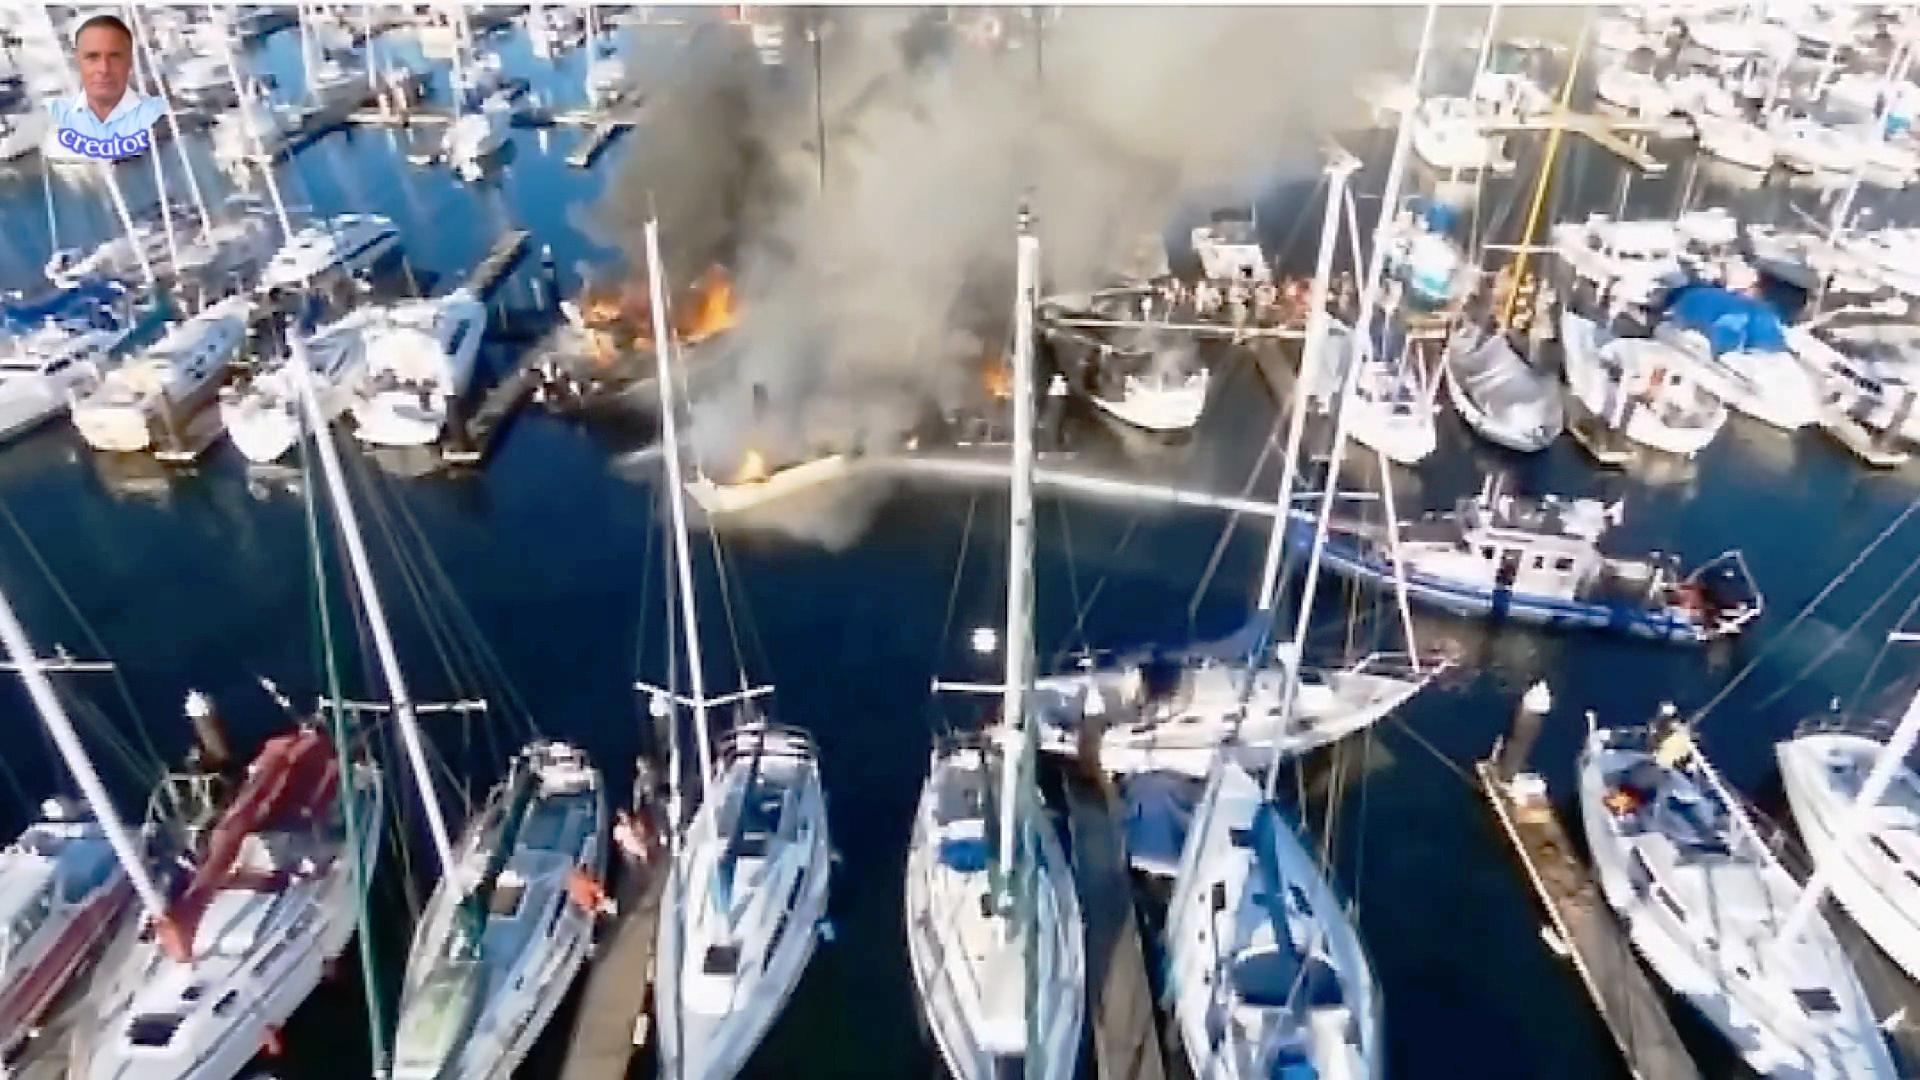smoke: (651, 15, 1069, 318)
